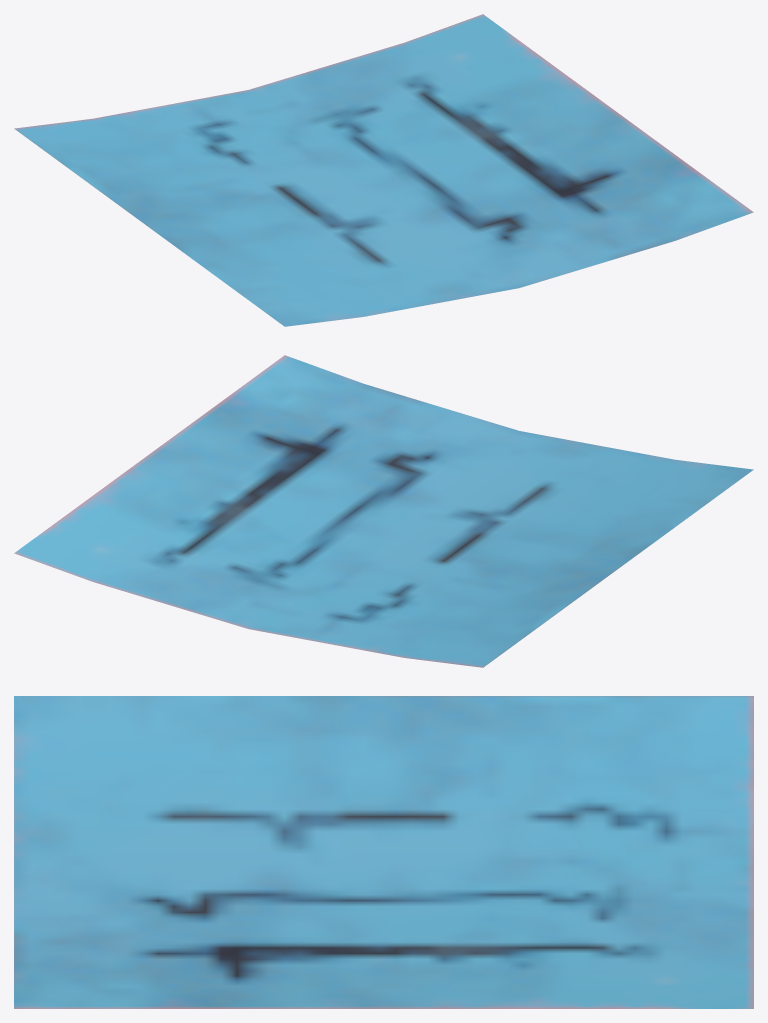
The model's file is SM_Magnets_06.fbx.
The picture shows the model from 3 angles, top to bottom: view 1: azimuth 30°, elevation 25°; view 2: azimuth 150°, elevation 25°; view 3: azimuth 270°, elevation 25°; orthographic projection. The views are drawn at different scales.
Visible parts, largest first — view 1: SM_Magnets_06_LOD0; view 2: SM_Magnets_06_LOD0; view 3: SM_Magnets_06_LOD0.
Part boxes in pixels (left/top/right/bottom): SM_Magnets_06_LOD0: left=14, top=14, right=753, bottom=326; SM_Magnets_06_LOD0: left=14, top=355, right=753, bottom=667; SM_Magnets_06_LOD0: left=14, top=696, right=753, bottom=1008.
Bounding box in the file's own units: 10 × 10 × 0.3773.
Materials: 1 (1 with a texture image).
